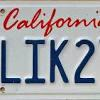2: (74, 37, 96, 84)
I: (24, 39, 46, 84)
K: (47, 37, 71, 84)
L: (0, 39, 22, 84)
